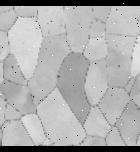good_void: (116, 64, 121, 70), (30, 95, 35, 99), (55, 74, 60, 78), (48, 20, 52, 24), (114, 8, 118, 12), (135, 18, 139, 22), (70, 7, 75, 10), (9, 66, 13, 69)
